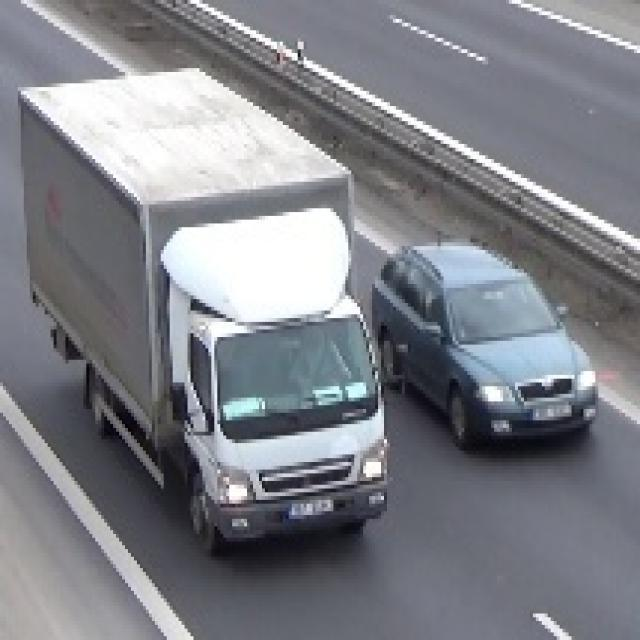truck: (18, 68, 393, 549)
